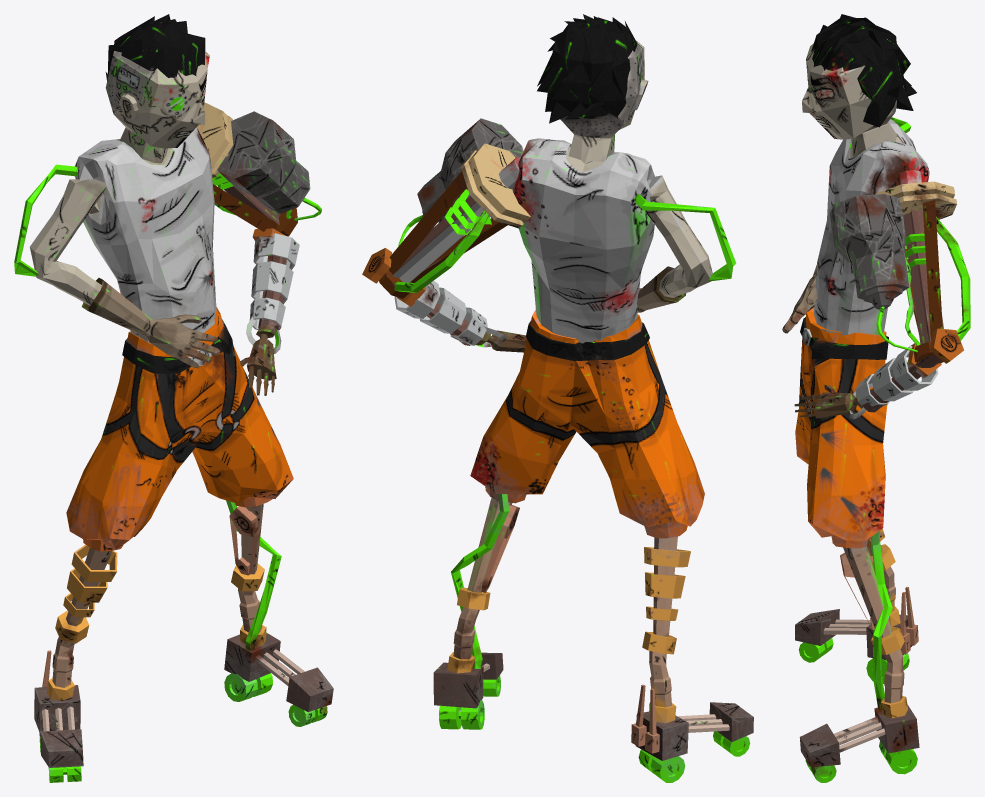
The model's file is CyborgFINALAnimation_000033.obj.
3 renders of one model, left to right at view 1: azimuth 30°, elevation 25°; view 2: azimuth 150°, elevation 25°; view 3: azimuth 270°, elevation 25°, orthographic. The views are drawn at different scales.
Visible parts, largest first — view 1: CyborgMesh_Cube.002; view 2: CyborgMesh_Cube.002; view 3: CyborgMesh_Cube.002.
Part boxes in pixels (bbox=[...]): CyborgMesh_Cube.002: bbox=[14, 14, 333, 782]; CyborgMesh_Cube.002: bbox=[362, 14, 753, 782]; CyborgMesh_Cube.002: bbox=[782, 14, 970, 782].
Bounding box in the file's own units: 4.52 × 9.6 × 2.35.
